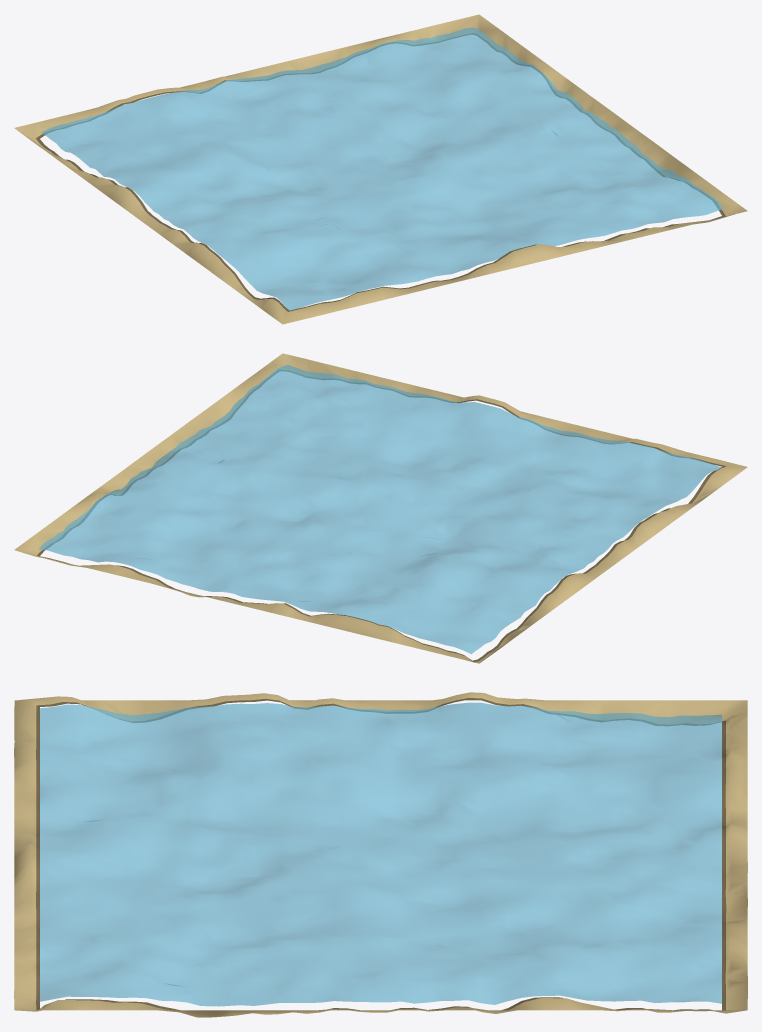
File: Square Water - Animated.fbx
3 renders of one model, top to bottom at view 1: azimuth 30°, elevation 25°; view 2: azimuth 150°, elevation 25°; view 3: azimuth 270°, elevation 25°, orthographic. The views are drawn at different scales.
Visible parts, largest first — view 1: Plane, Plane.002; view 2: Plane, Plane.002; view 3: Plane, Plane.002.
Boxes of the visible parts, <box> form: Plane: <box>41,27,723,310</box>; Plane.002: <box>14,14,747,324</box>; Plane: <box>39,365,720,654</box>; Plane.002: <box>14,353,747,663</box>; Plane: <box>40,702,721,1006</box>; Plane.002: <box>14,692,747,1017</box>.
Size of the model in its own units: 4306 by 211 by 4306.
